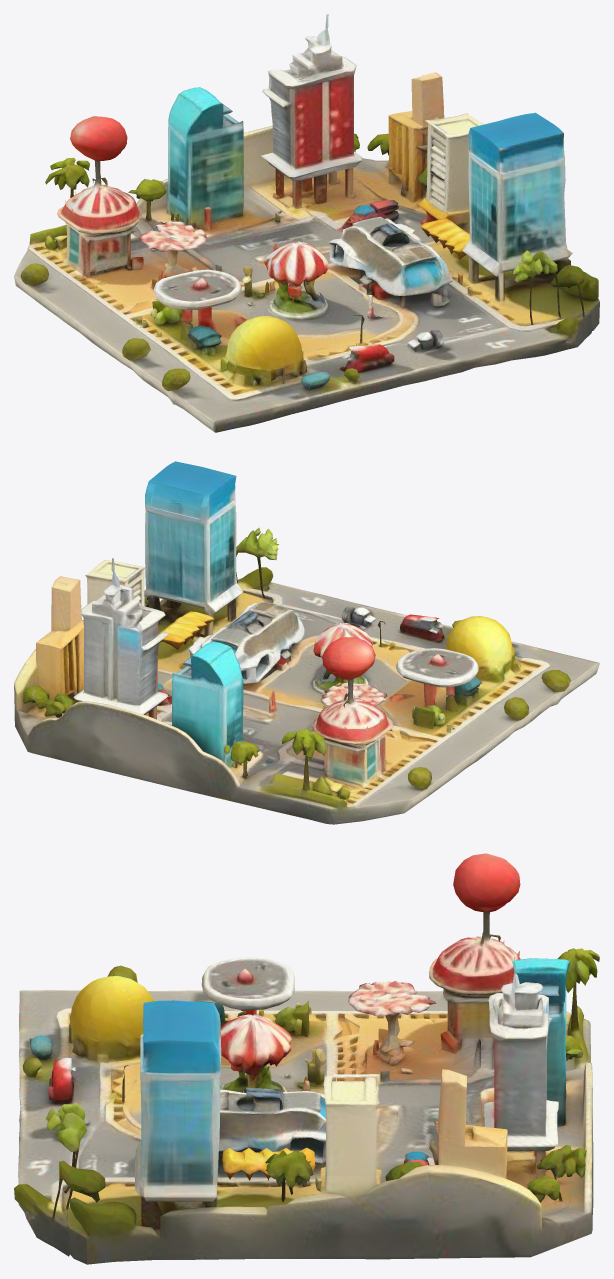
File: city.glb
The picture shows the model from 3 angles, top to bottom: view 1: azimuth 30°, elevation 25°; view 2: azimuth 150°, elevation 25°; view 3: azimuth 270°, elevation 25°; orthographic projection. The views are drawn at different scales.
Parts seen in each view (by area): view 1: model; view 2: model; view 3: model.
Part boxes in pixels (left/top/right/bottom): model: left=14, top=14, right=599, bottom=432; model: left=14, top=461, right=599, bottom=824; model: left=14, top=853, right=599, bottom=1264.
Size of the model in its own units: 36 by 16.67 by 35.2.
1 material, 1 textured.
